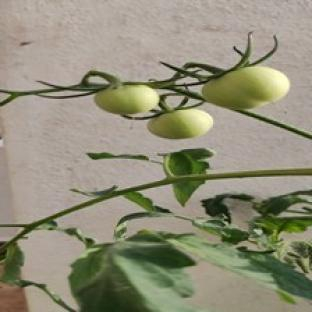Tomato: (202, 66, 289, 110), (148, 109, 213, 139), (95, 85, 158, 114)
